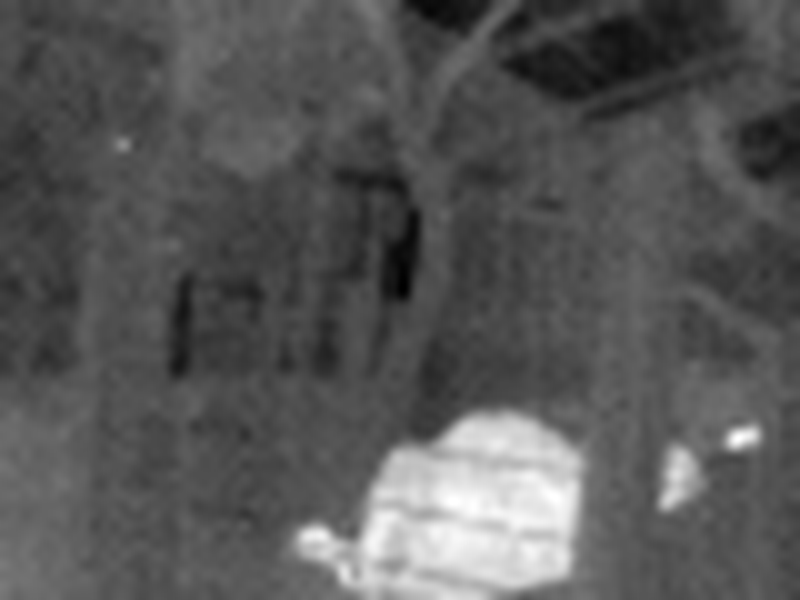elephant: (311, 394, 720, 600)
